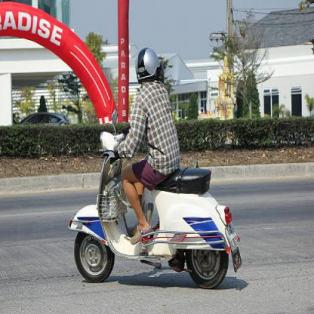Motocicleta: (67, 120, 243, 292)
